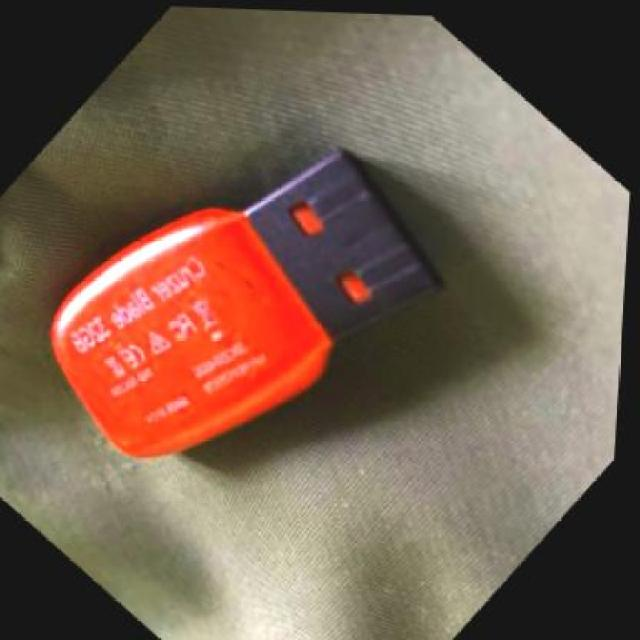Flashdisk: (0, 12, 525, 580)
